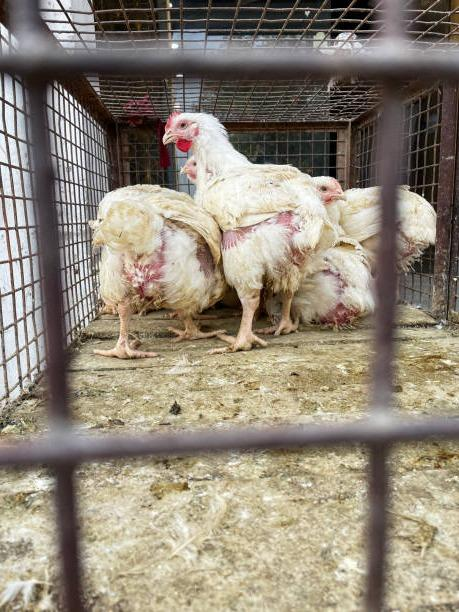AbNormal: (155, 104, 331, 328)
